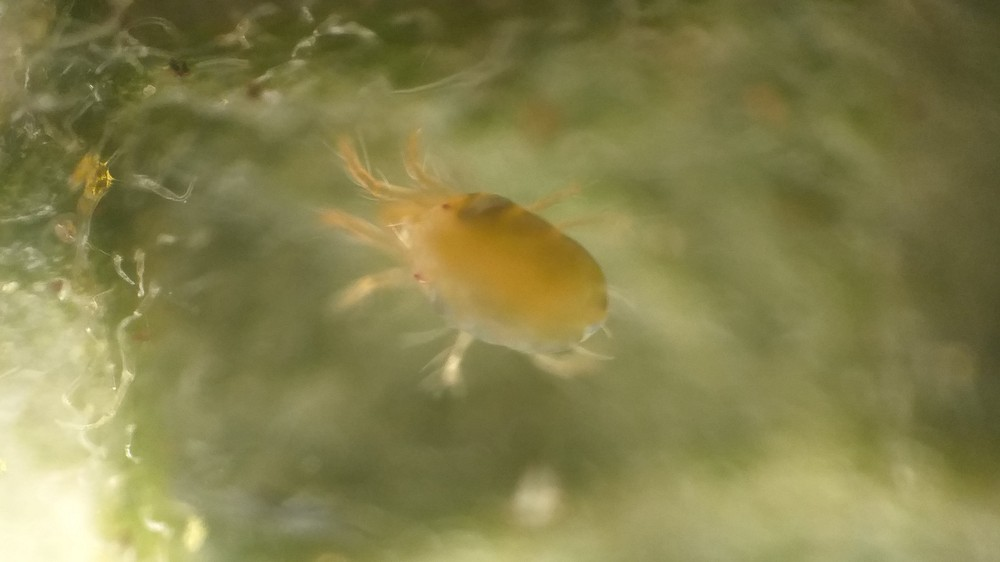Aracnido Rojo: (295, 122, 701, 426)
